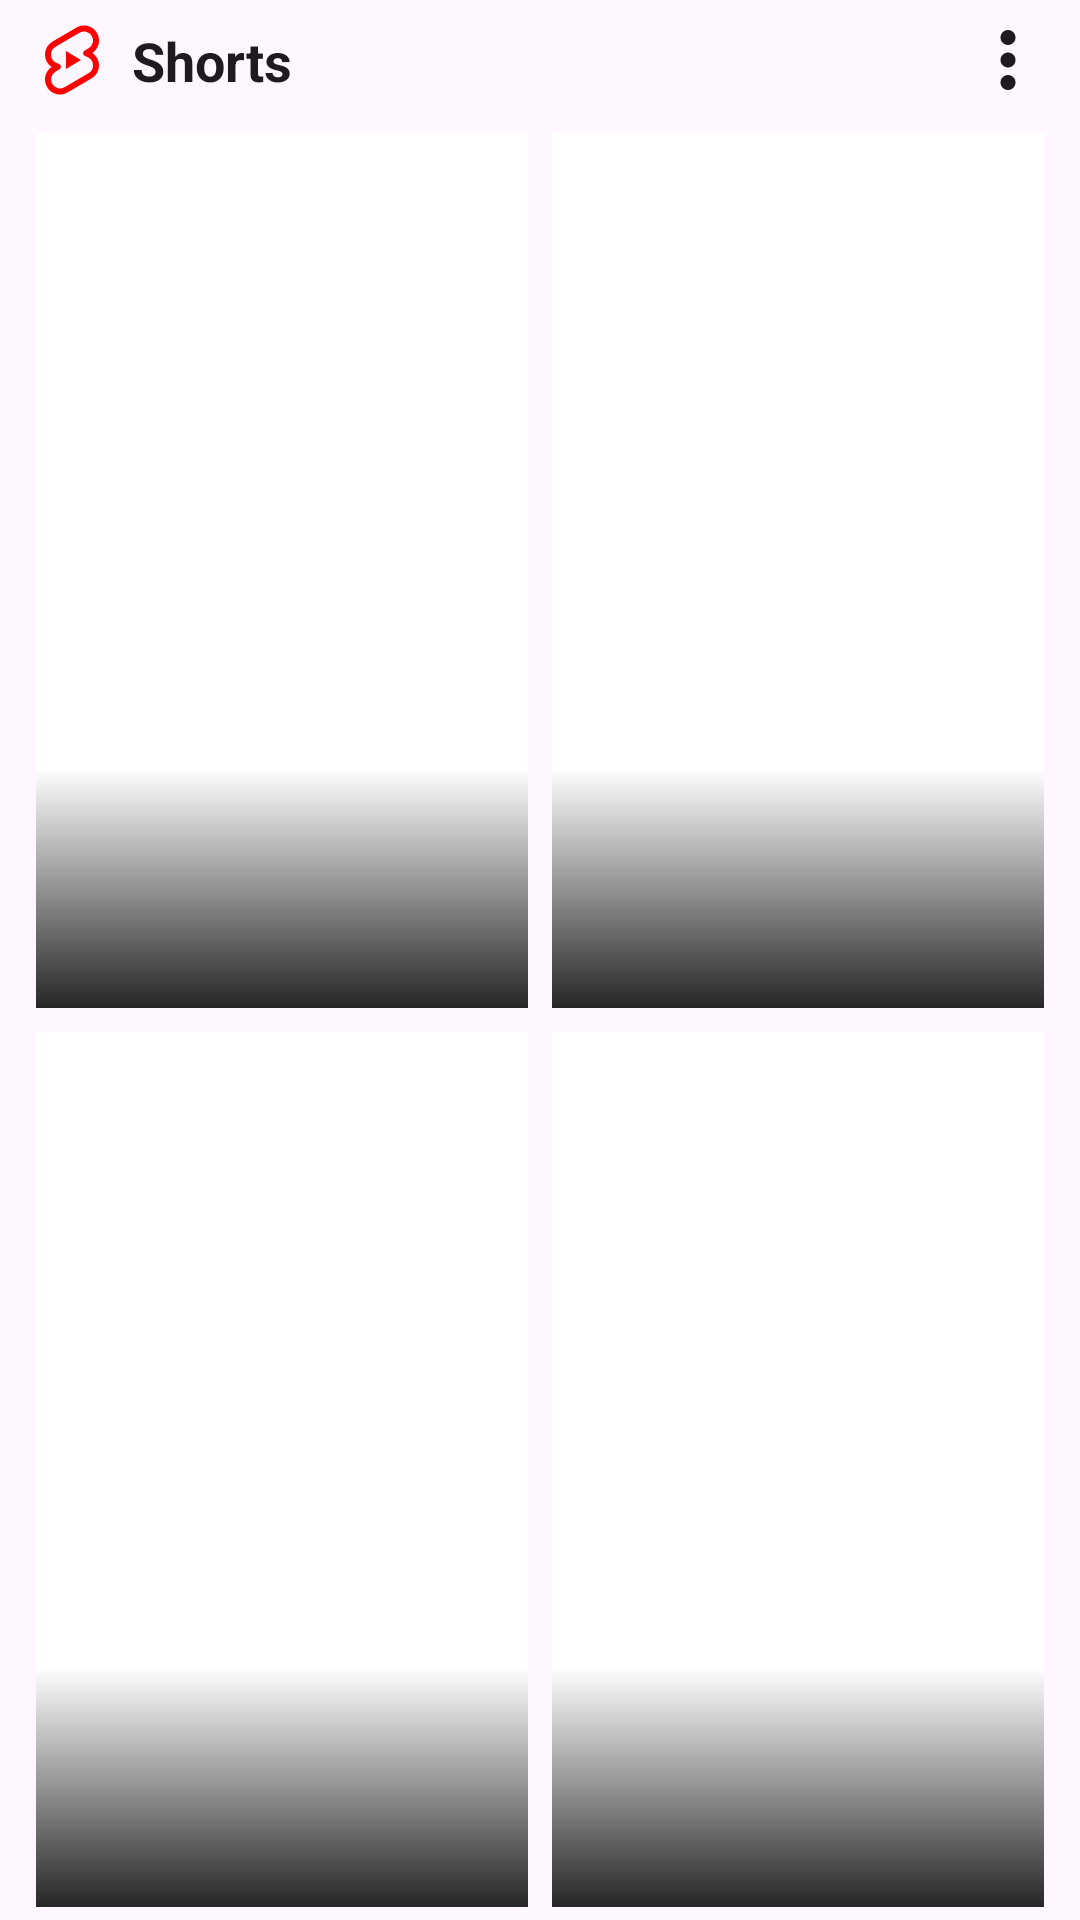

Icon click points for this 1080*1920 phone screenshot, format point (x, y):
three dots: point (1008, 60)
